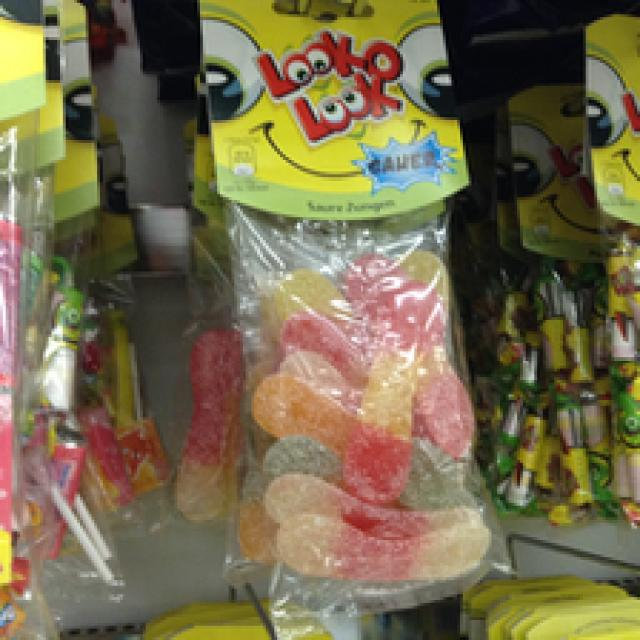groceries: (206, 3, 488, 591)
